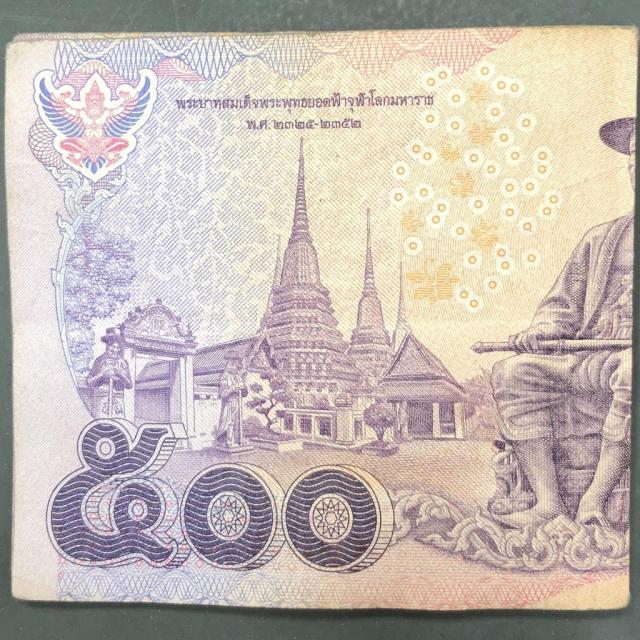THAI500: (9, 33, 628, 611)
